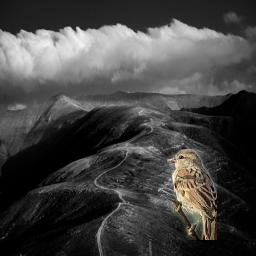Sparrow: (167, 150, 217, 241)
